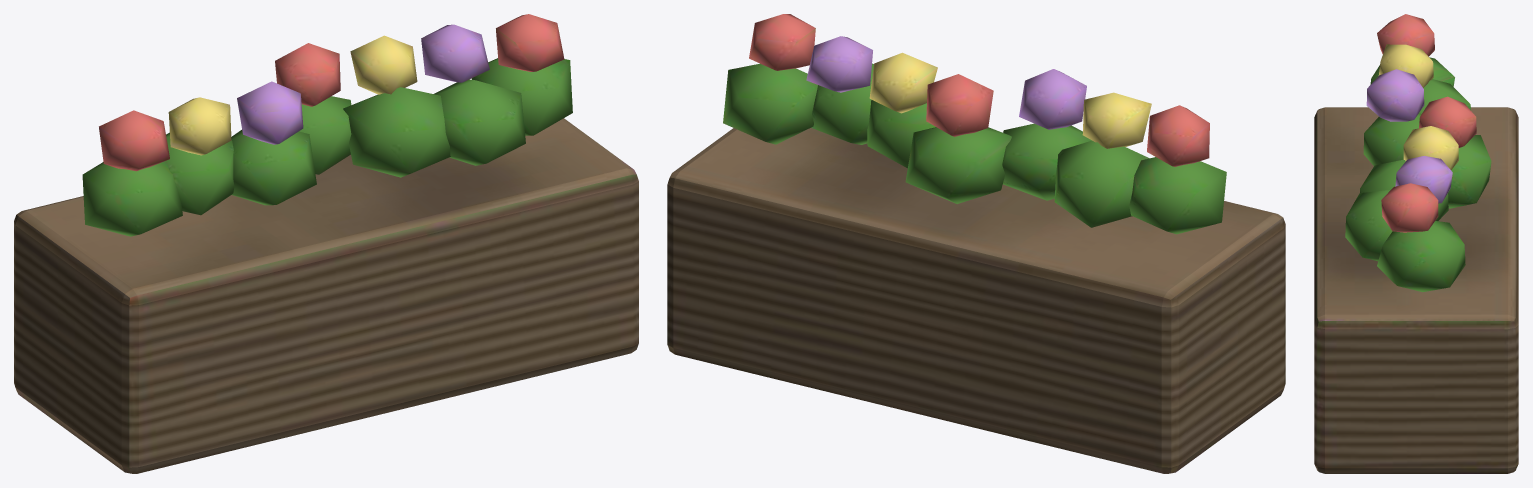
File: flowerbox.glb
3 views of the same model, side by side, from view 1: azimuth 30°, elevation 25°; view 2: azimuth 150°, elevation 25°; view 3: azimuth 270°, elevation 25° (orthographic). The views are drawn at different scales.
Visible parts, largest first — view 1: flowerbox; view 2: flowerbox; view 3: flowerbox.
Boxes of the visible parts, x1=… form: flowerbox: x1=14, y1=14, x2=638, y2=473; flowerbox: x1=667, y1=14, x2=1285, y2=473; flowerbox: x1=1314, y1=14, x2=1518, y2=473.
Bounding box in the file's own units: 0.7 × 0.4129 × 0.28.
Materials: 1 (1 with a texture image).
